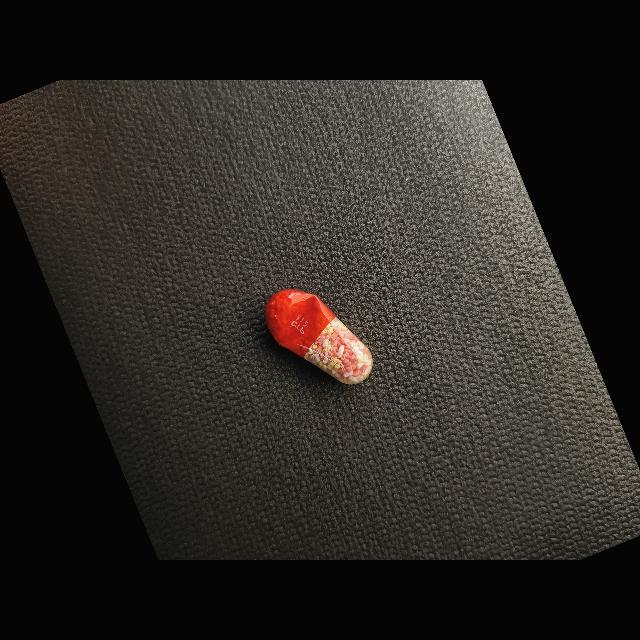Defective Capsule: (265, 289, 373, 385)
